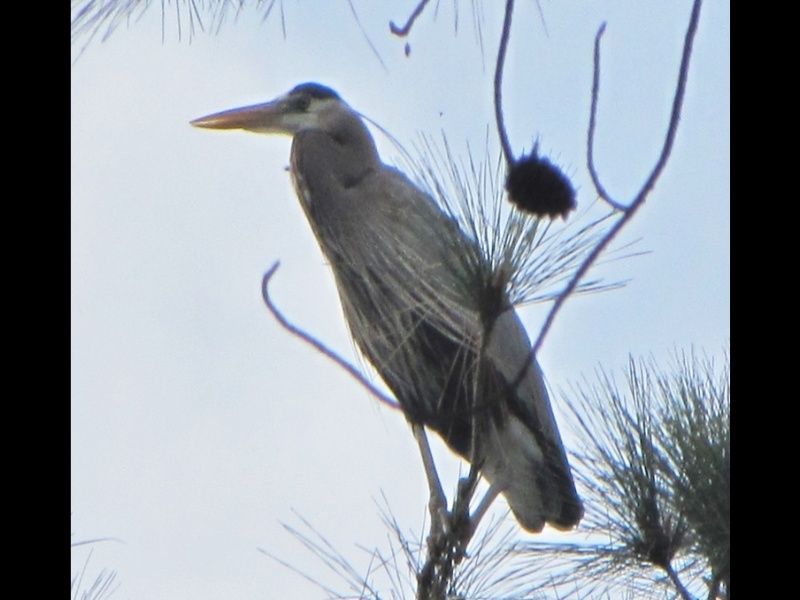heron: (188, 78, 584, 547)
